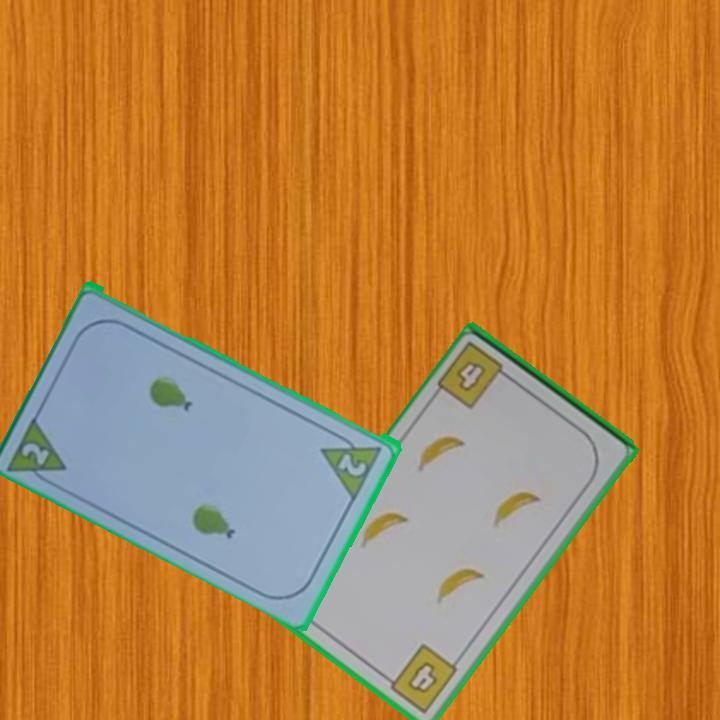2p: (4, 410, 71, 491), (335, 449, 370, 480)
4b: (380, 640, 461, 717), (434, 338, 516, 413)
